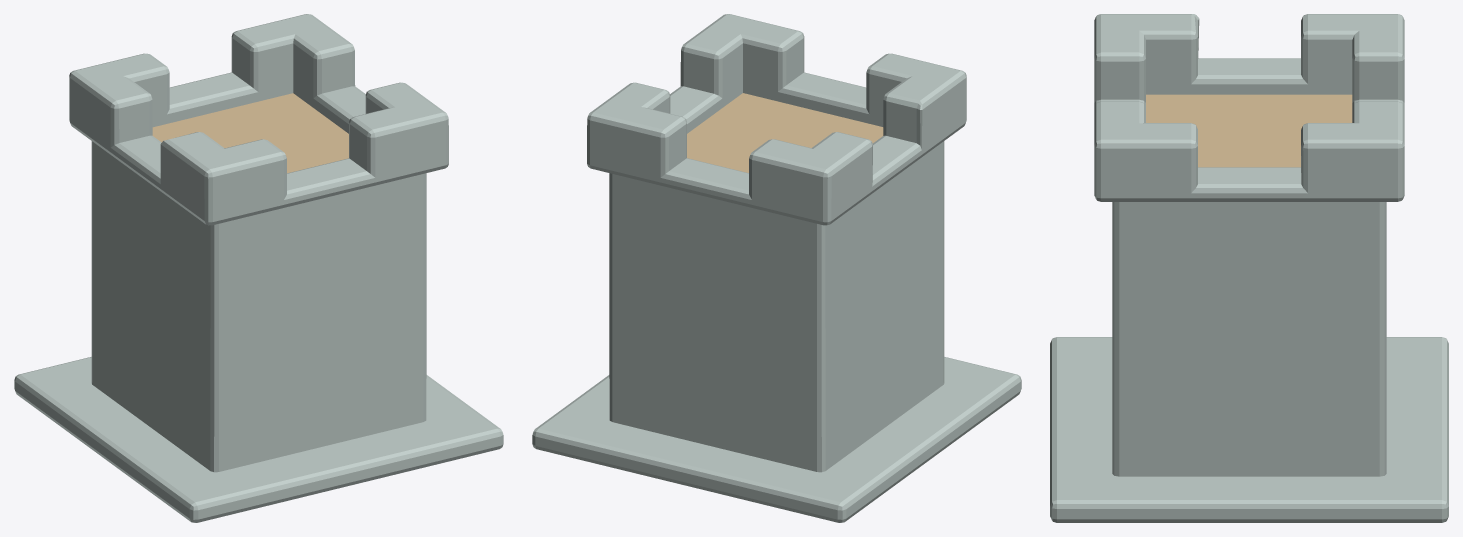
File: Tower.fbx
3 views of the same model, side by side, from view 1: azimuth 30°, elevation 25°; view 2: azimuth 150°, elevation 25°; view 3: azimuth 270°, elevation 25° (orthographic). The views are drawn at different scales.
Visible parts, largest first — view 1: Cube; view 2: Cube; view 3: Cube.
Boxes of the visible parts, x1=… form: Cube: x1=14, y1=14, x2=503, y2=522; Cube: x1=532, y1=14, x2=1021, y2=522; Cube: x1=1050, y1=14, x2=1448, y2=522.
Bounding box in the file's own units: 233 × 235 × 233.
